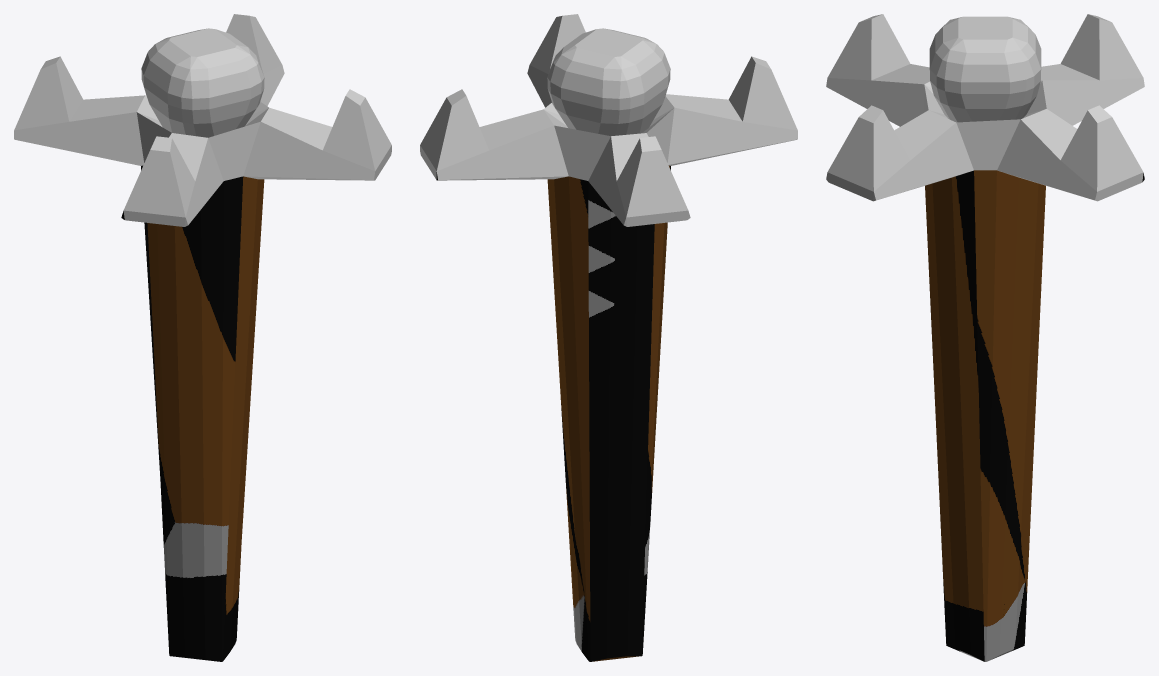
The model's file is torch.obj.
3 views of the same model, side by side, from view 1: azimuth 30°, elevation 25°; view 2: azimuth 150°, elevation 25°; view 3: azimuth 270°, elevation 25° (orthographic). The views are drawn at different scales.
Parts seen in each view (by area): view 1: Cube; view 2: Cube; view 3: Cube.
Part boxes in pixels (x1,y1,x2,y2): Cube: [14, 14, 391, 661]; Cube: [420, 14, 797, 661]; Cube: [826, 14, 1144, 661].
Size of the model in its own units: 0.2408 by 0.5146 by 0.2408.
